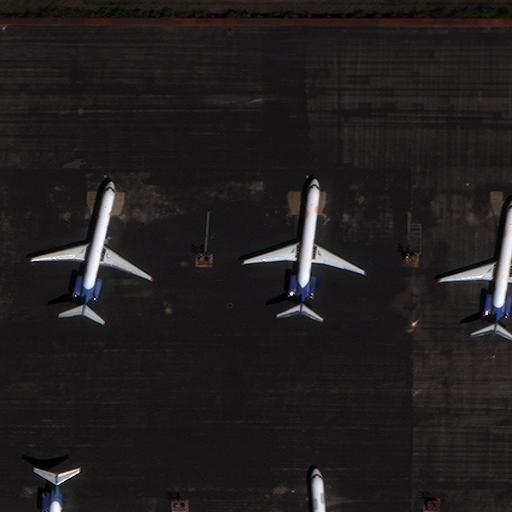Medium Civil Transport: (242, 178, 365, 318), (29, 181, 152, 317), (438, 200, 512, 336), (7, 471, 103, 511), (288, 467, 350, 511)
